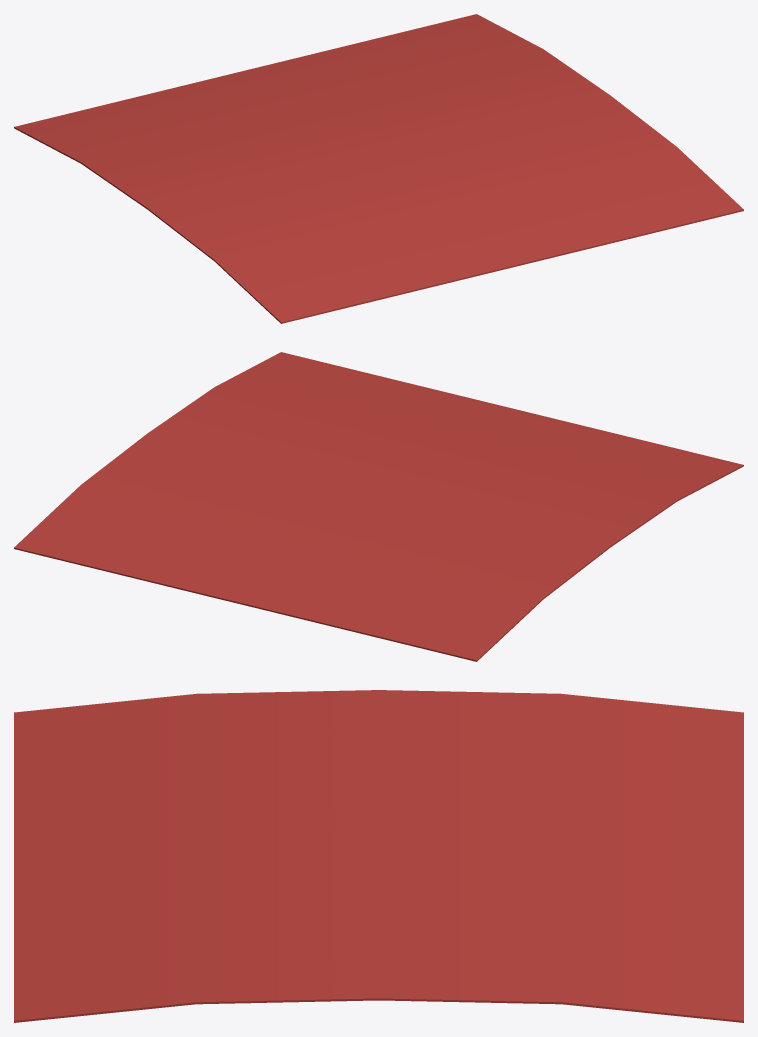
Rendered from steel_lod2.glb.
3 renders of one model, top to bottom at view 1: azimuth 30°, elevation 25°; view 2: azimuth 150°, elevation 25°; view 3: azimuth 270°, elevation 25°, orthographic. The views are drawn at different scales.
Parts seen in each view (by area): view 1: steel_lod2; view 2: steel_lod2; view 3: steel_lod2.
Part boxes in pixels (box(x1,y1,x2,y2)): steel_lod2: box(14, 14, 743, 323); steel_lod2: box(14, 352, 743, 661); steel_lod2: box(14, 690, 743, 1022).
Bounding box in the file's own units: 1 × 0.037 × 1.
